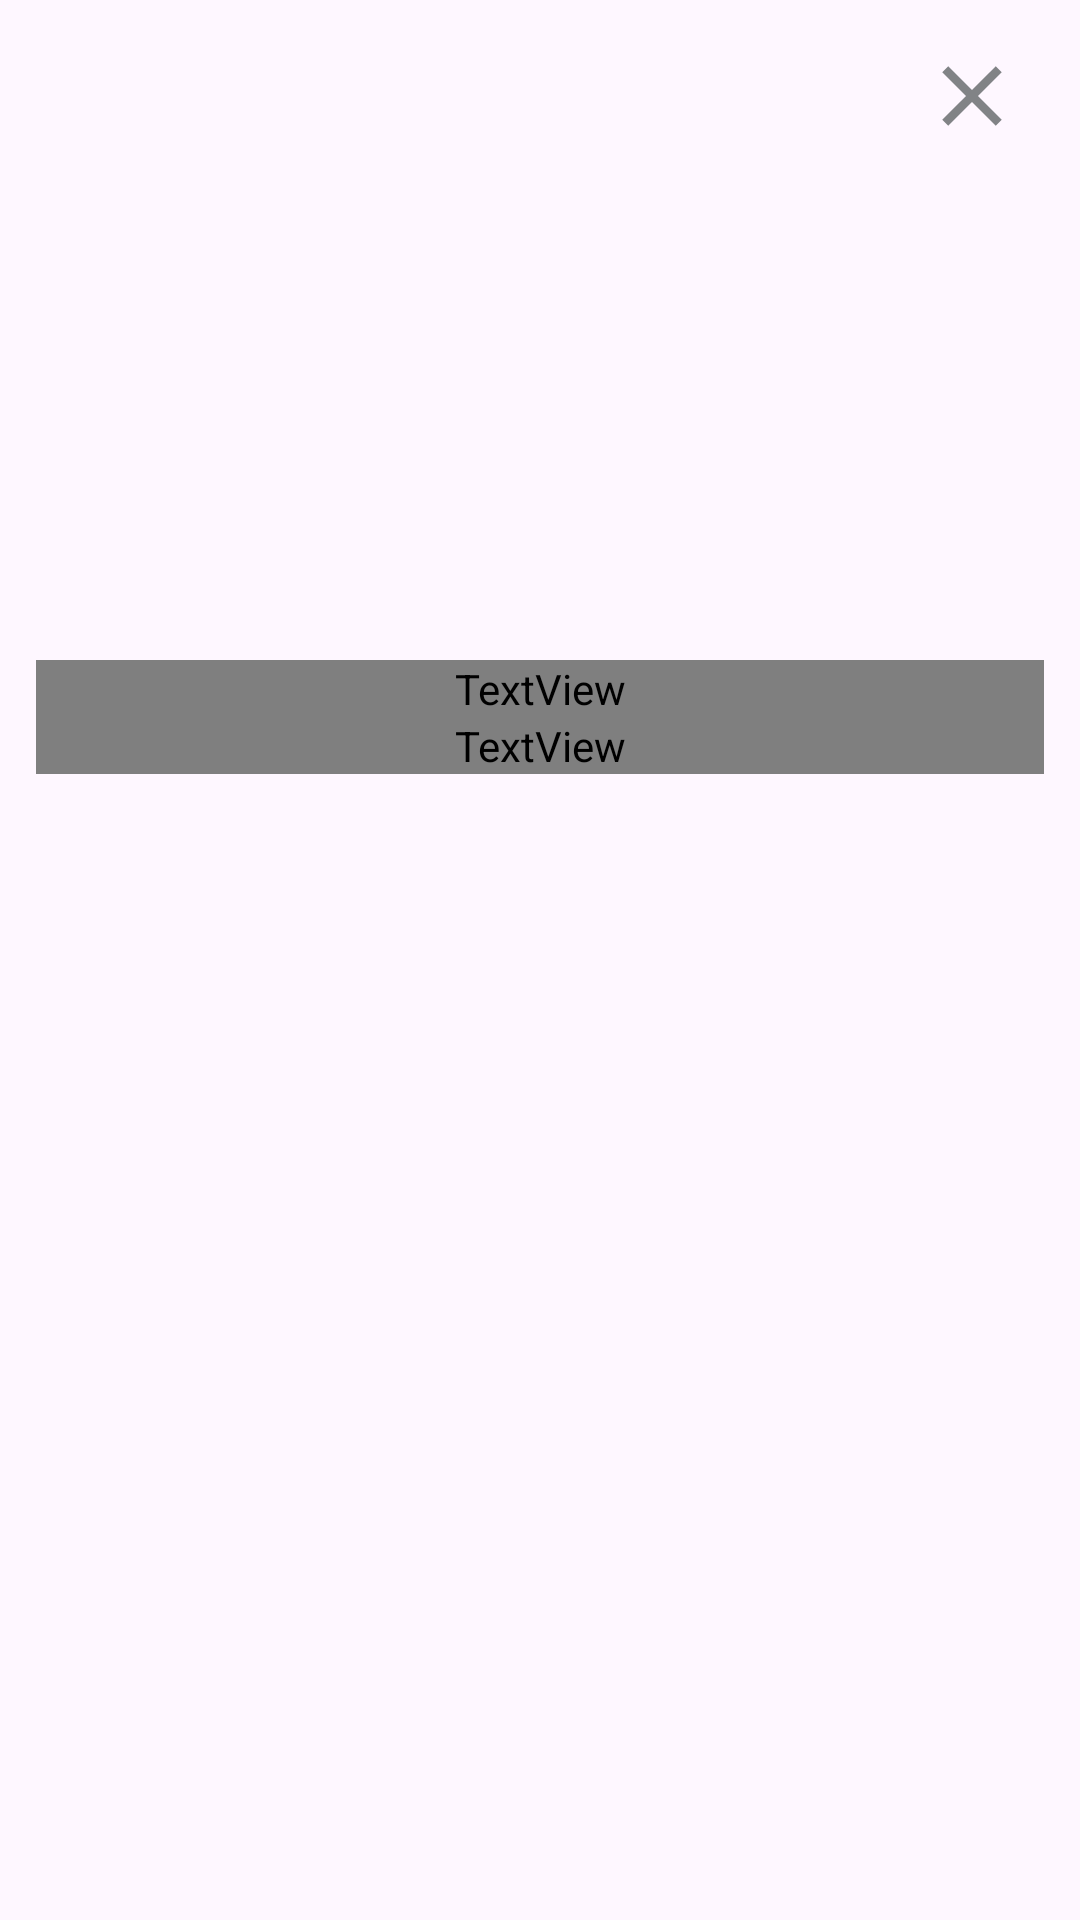

Icons on this 1080 x 1920 Android screen, each with the point to tap as (x=x, y=y):
Close button: (x=972, y=96)
